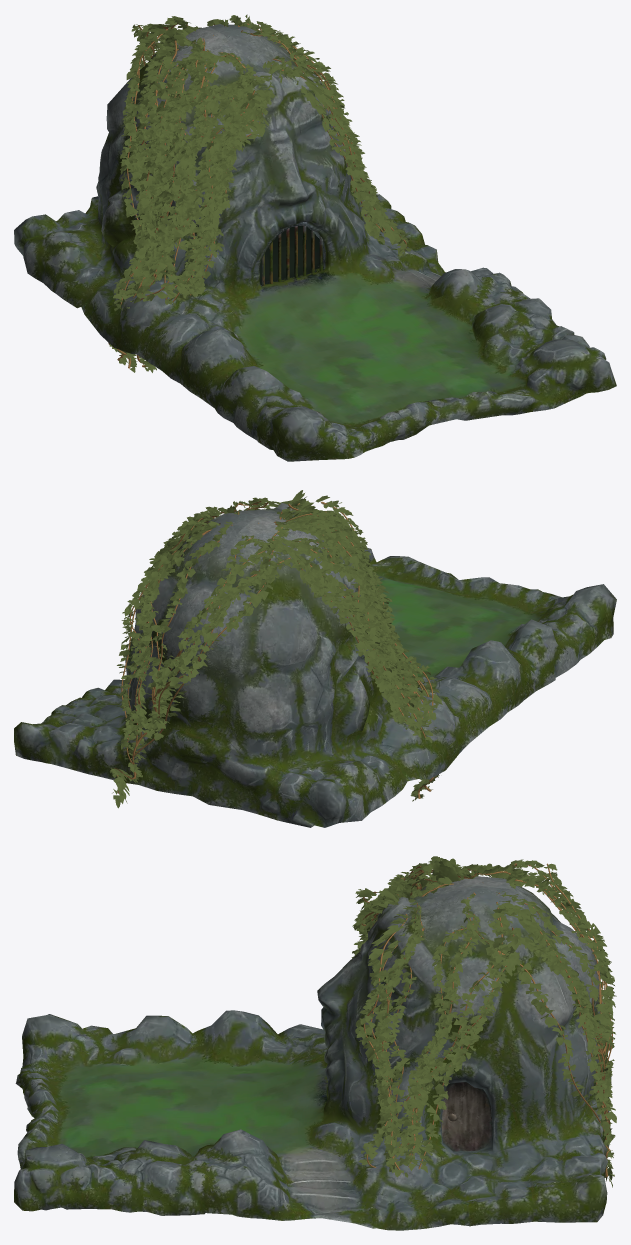
File: the_cave.glb
The picture shows the model from 3 angles, top to bottom: view 1: azimuth 30°, elevation 25°; view 2: azimuth 150°, elevation 25°; view 3: azimuth 270°, elevation 25°; orthographic projection. The views are drawn at different scales.
Parts seen in each view (by area): view 1: cave_low_cave_0, ivy_leaf_0, ivy_Trunk_0; view 2: cave_low_cave_0, ivy_leaf_0, ivy_Trunk_0; view 3: cave_low_cave_0, ivy_leaf_0, ivy_Trunk_0.
Part boxes in pixels (box(x1,y1,x2,y2)): cave_low_cave_0: box(14, 24, 616, 461); ivy_leaf_0: box(109, 14, 412, 372); ivy_Trunk_0: box(108, 23, 407, 368); cave_low_cave_0: box(14, 503, 616, 827); ivy_leaf_0: box(110, 490, 456, 808); ivy_Trunk_0: box(114, 501, 436, 798); cave_low_cave_0: box(14, 876, 611, 1230); ivy_leaf_0: box(351, 856, 616, 1187); ivy_Trunk_0: box(361, 863, 612, 1176).
Size of the model in its own units: 2.71 by 2.13 by 4.08.
3 materials, 1 textured.
